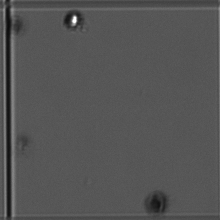Dead Cell: (6, 12, 32, 41), (144, 191, 175, 212)
Living Cell: (61, 9, 90, 36)
